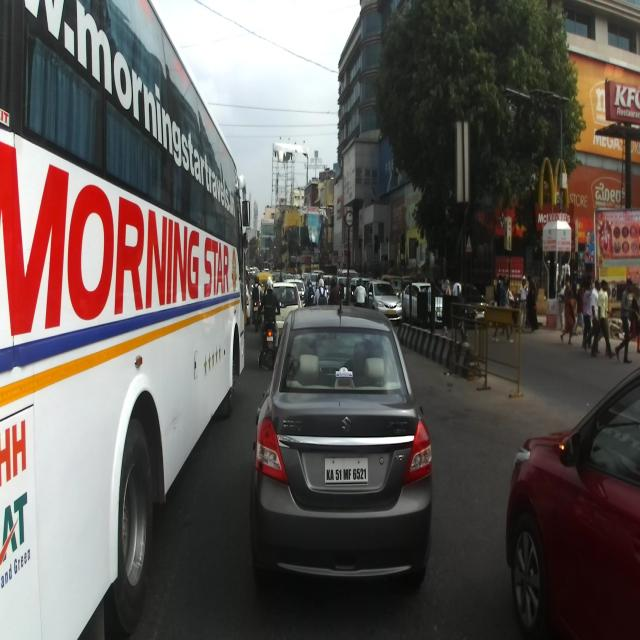Car_Hyundai: (504, 362, 640, 638)
Car_Maruti-Suzuki: (254, 290, 434, 595)
Car_TATA: (267, 281, 302, 344)
Car_Toyota: (363, 280, 402, 325)
bus: (0, 0, 251, 639)
motorcycle_Yamaha: (258, 299, 282, 358)
